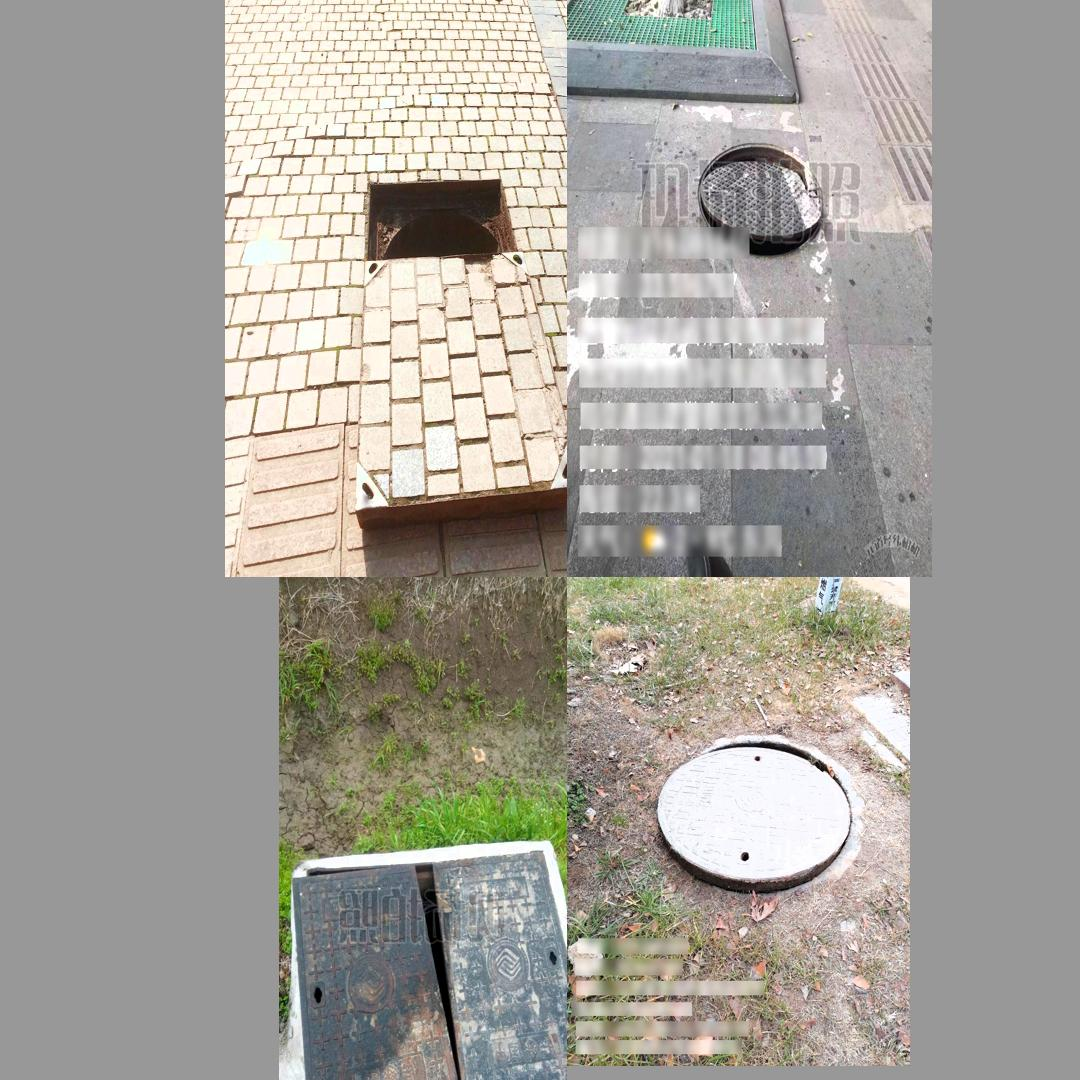uncovered: (354, 175, 563, 523), (282, 839, 566, 1080), (657, 733, 864, 892), (697, 142, 823, 257)
